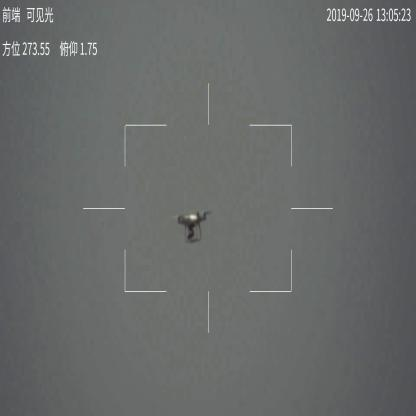uav: (170, 206, 212, 240)
